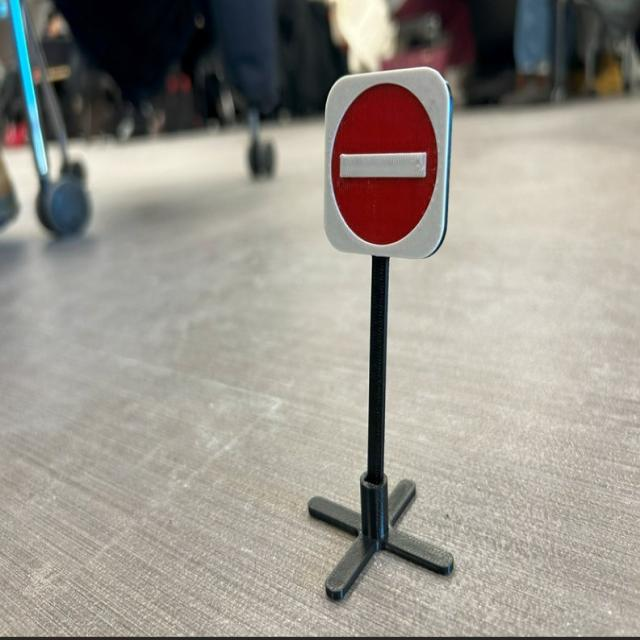sign_noentry: (308, 46, 463, 285)
